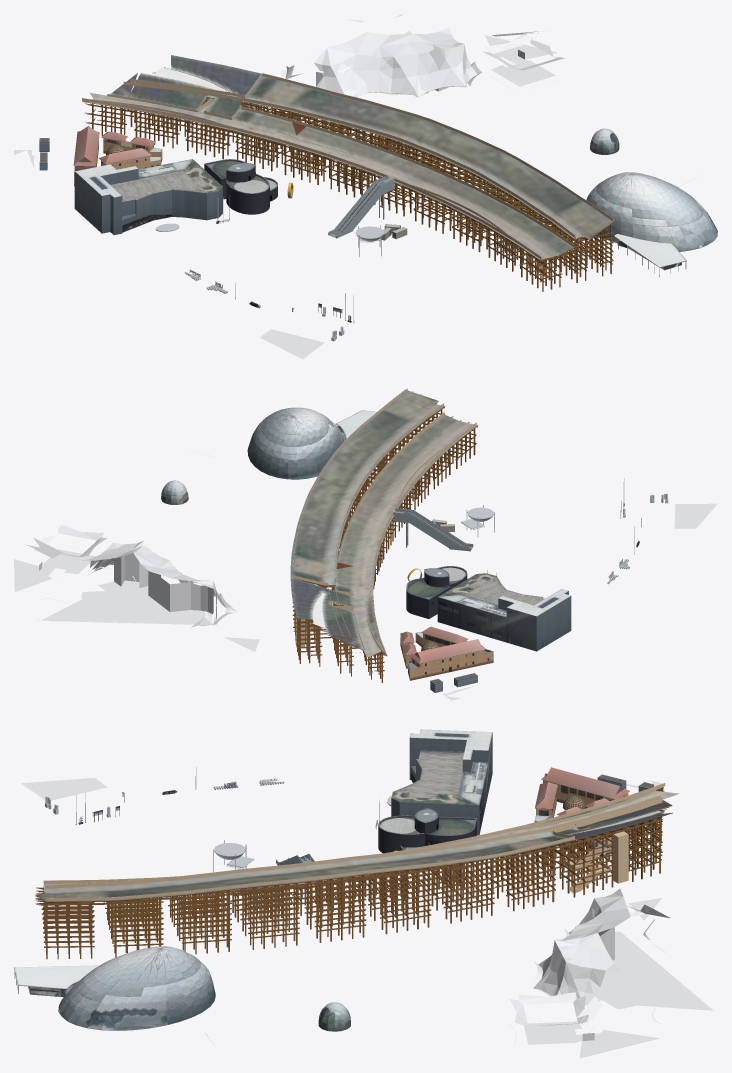
3 views of the same model, one above another, from view 1: azimuth 30°, elevation 25°; view 2: azimuth 150°, elevation 25°; view 3: azimuth 270°, elevation 25° (orthographic). The views are drawn at different scales.
Parts seen in each view (by area): view 1: GrandRoofRing_大屋根リング, Buildings_建物パビリオン, Facilities_都市設備; view 2: Buildings_建物パビリオン, GrandRoofRing_大屋根リング, Facilities_都市設備; view 3: GrandRoofRing_大屋根リング, Buildings_建物パビリオン, Facilities_都市設備.
Boxes of the visible parts, x1,y1,x2,y2 form: GrandRoofRing_大屋根リング: (82,55,616,291); Buildings_建物パビリオン: (14,14,717,359); Facilities_都市設備: (106,144,384,341); Buildings_建物パビリオン: (14,407,717,700); GrandRoofRing_大屋根リング: (290,388,477,682); Facilities_都市設備: (407,478,668,651); GrandRoofRing_大屋根リング: (35,783,679,959); Buildings_建物パビリオン: (14,729,713,1058); Facilities_都市設備: (45,767,585,872).
Bounding box in the file's own units: 219 × 24.47 × 226.
Materials: 31 (28 with a texture image).
